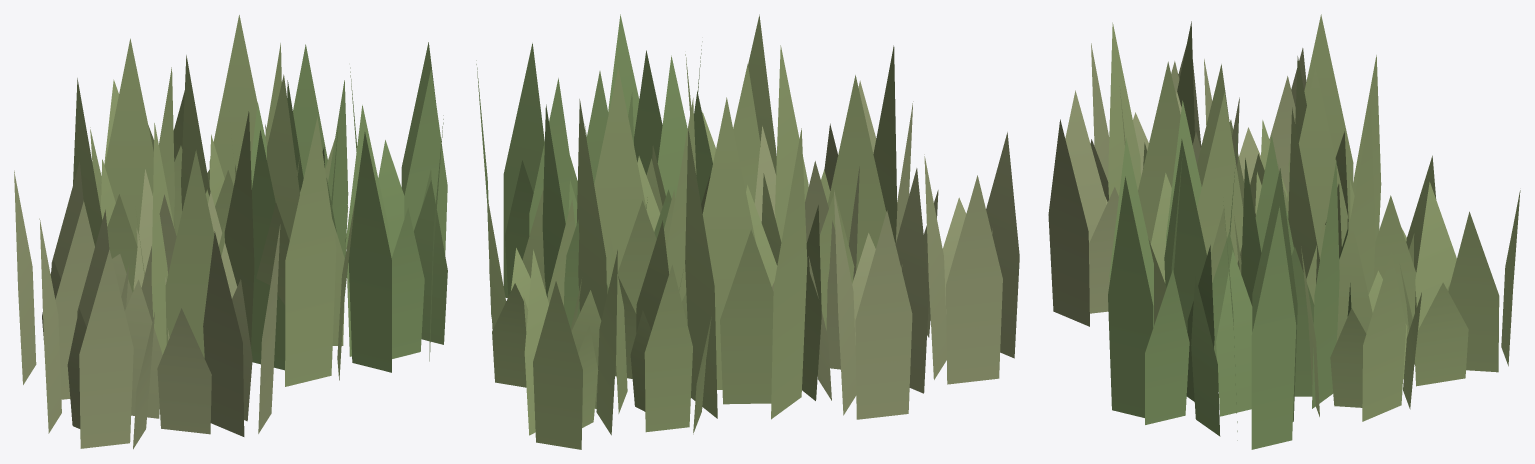
File: veg_coastal_grass.glb
3 views of the same model, side by side, from view 1: azimuth 30°, elevation 25°; view 2: azimuth 150°, elevation 25°; view 3: azimuth 270°, elevation 25° (orthographic). The views are drawn at different scales.
Parts seen in each view (by area): view 1: clump_0, clump_1, clump_2, clump_3; view 2: clump_0, clump_1, clump_3, clump_2; view 3: clump_2, clump_0, clump_3, clump_1.
Part boxes in pixels (x1,y1,x2,y2): clump_0: [73, 15, 355, 386]; clump_1: [14, 162, 280, 449]; clump_2: [251, 42, 447, 372]; clump_3: [90, 79, 348, 235]; clump_0: [576, 14, 897, 419]; clump_1: [754, 80, 1019, 419]; clump_3: [488, 158, 711, 449]; clump_2: [476, 14, 753, 328]; clump_2: [1108, 100, 1351, 449]; clump_0: [1108, 14, 1381, 325]; clump_3: [1234, 155, 1520, 421]; clump_1: [1048, 43, 1306, 326].
Bounding box in the file's own units: 0.686 × 0.399 × 0.6233.
